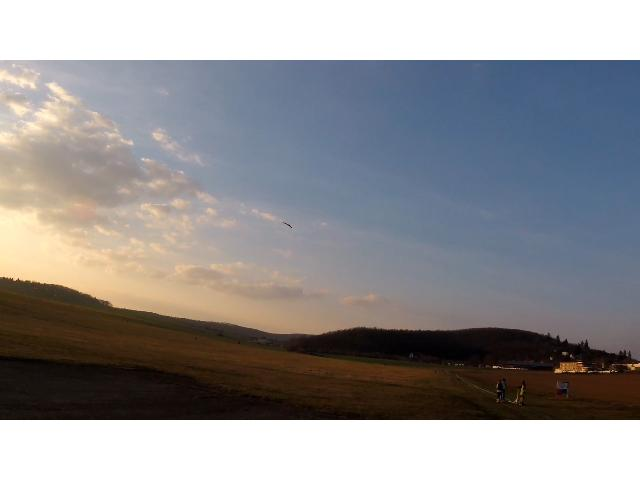Anti-Drone: (284, 222, 292, 228)
